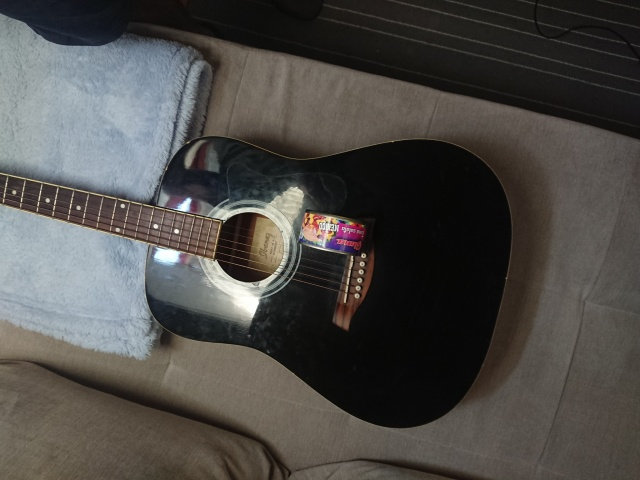Giana Tuna Salad Mexico 185g: (295, 206, 371, 260)
